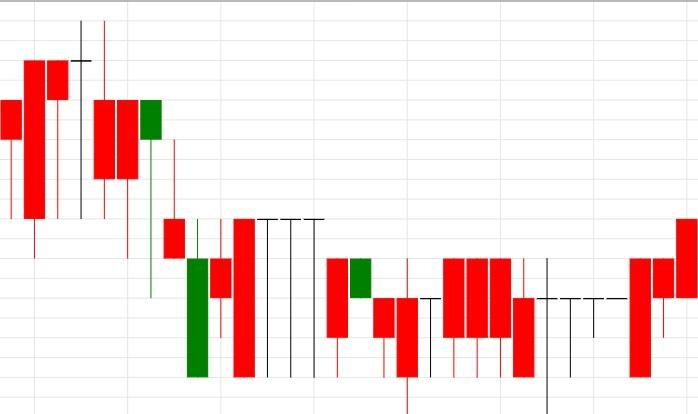hammer_rise: (70, 21, 163, 299)
hanging_man_fall: (0, 60, 69, 258)
